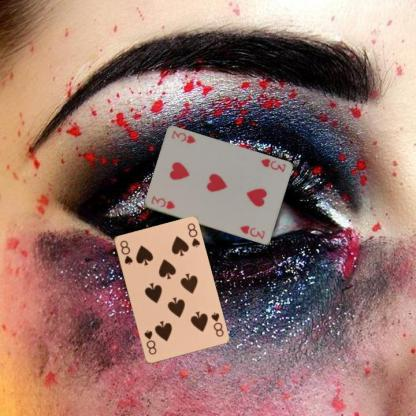3h: (257, 156, 287, 173), (148, 194, 176, 210)
8s: (208, 310, 225, 338), (118, 237, 134, 266)
